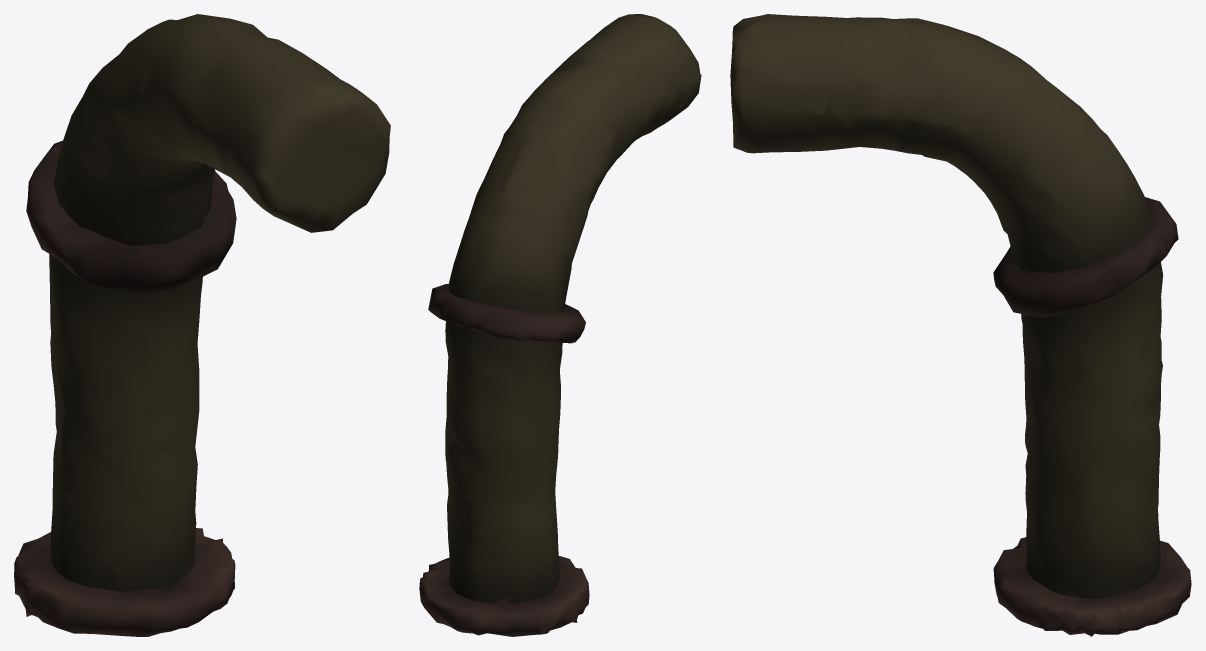
File: msh_Pipe_01.fbx
3 views of the same model, side by side, from view 1: azimuth 30°, elevation 25°; view 2: azimuth 150°, elevation 25°; view 3: azimuth 270°, elevation 25° (orthographic). The views are drawn at different scales.
Parts seen in each view (by area): view 1: pipe; view 2: pipe; view 3: pipe.
Part boxes in pixels (left/top/right/bottom): pipe: left=14, top=14, right=390, bottom=636; pipe: left=419, top=14, right=701, bottom=636; pipe: left=730, top=14, right=1191, bottom=636.
Bounding box in the file's own units: 0.5885 × 1.85 × 1.34.
